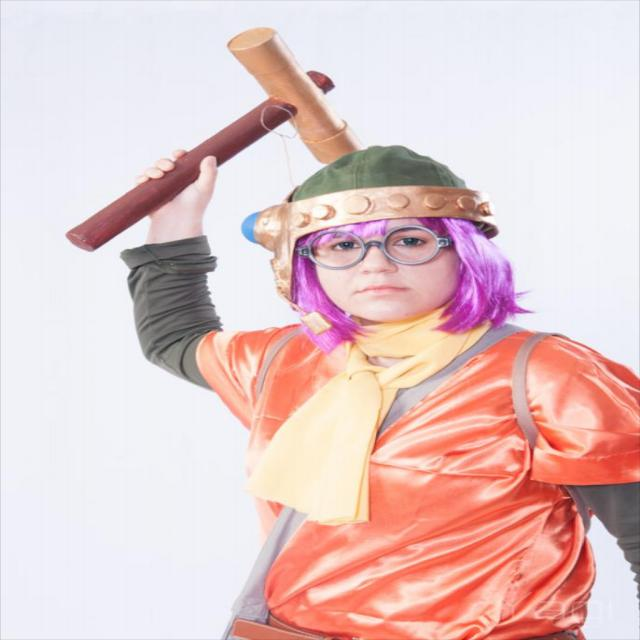hammer: (63, 29, 355, 253)
